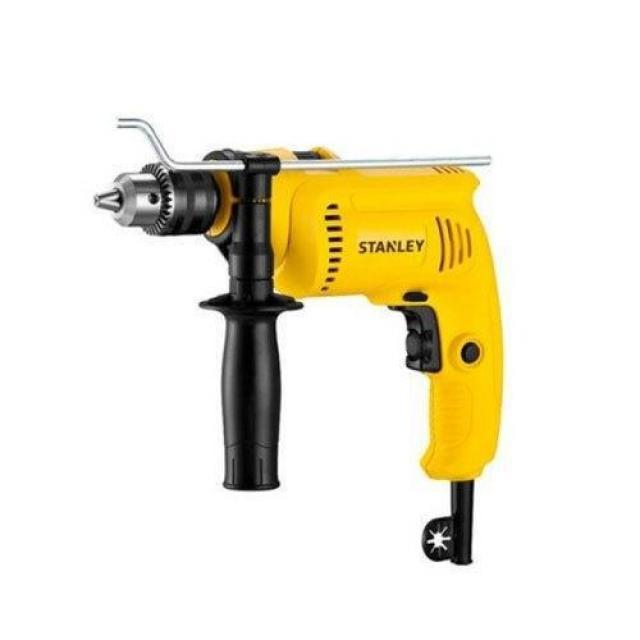drill: (93, 148, 503, 566)
